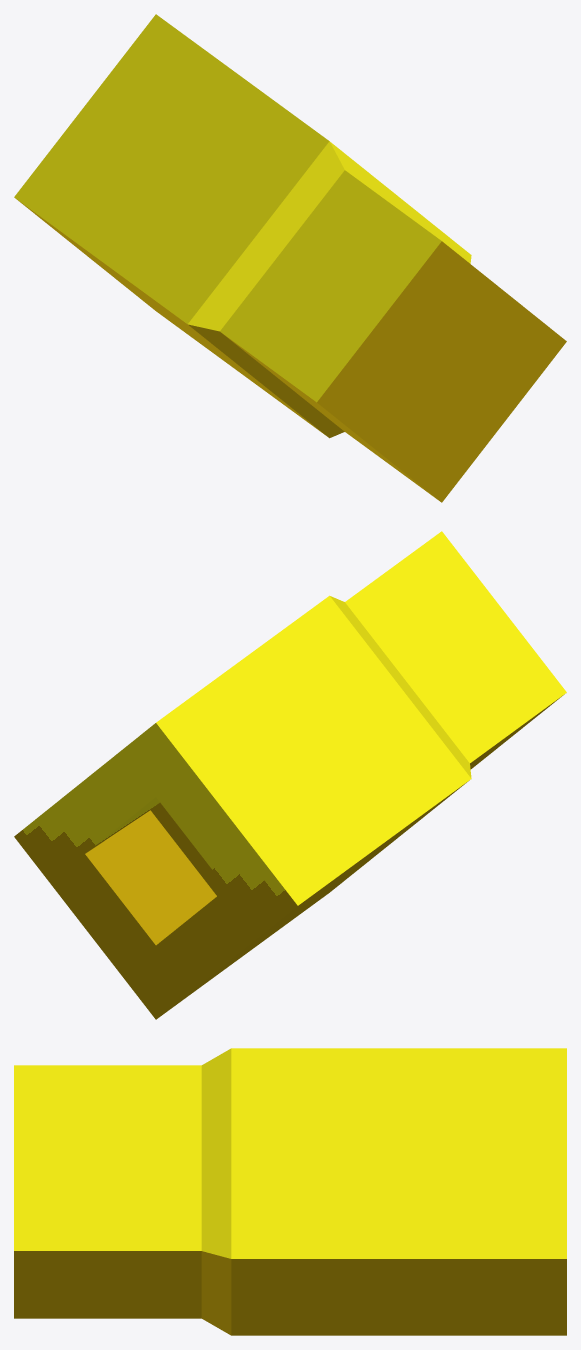
File: gun.gltf
The picture shows the model from 3 angles, top to bottom: view 1: azimuth 30°, elevation 25°; view 2: azimuth 150°, elevation 25°; view 3: azimuth 270°, elevation 25°; orthographic projection. The views are drawn at different scales.
Parts seen in each view (by area): view 1: cube; view 2: cube; view 3: cube.
Boxes of the visible parts, left/top/right/bottom form: cube: left=14, top=14, right=566, bottom=502; cube: left=14, top=531, right=566, bottom=1019; cube: left=14, top=1048, right=566, bottom=1335.
Size of the model in its own units: 1 by 1 by 1.75.
1 material, 1 textured.
